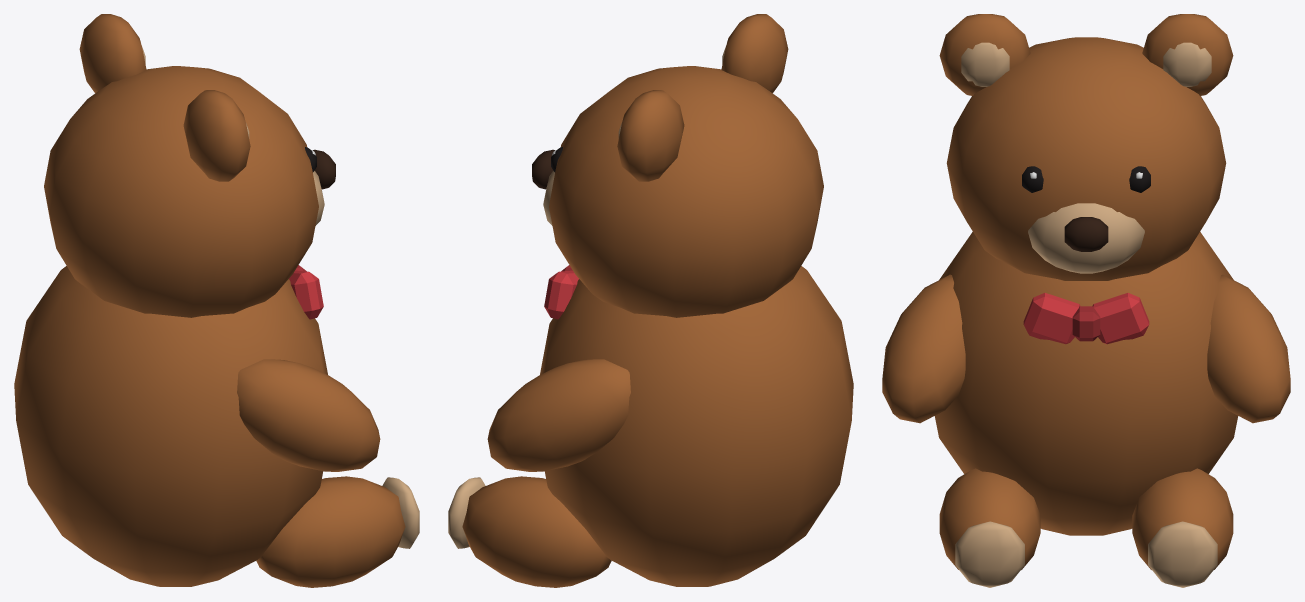
The model's file is toy-prop3.glb.
The picture shows the model from 3 angles, left to right: view 1: azimuth 30°, elevation 25°; view 2: azimuth 150°, elevation 25°; view 3: azimuth 270°, elevation 25°; orthographic projection. The views are drawn at different scales.
Visible parts, largest first — view 1: toy-prop3; view 2: toy-prop3; view 3: toy-prop3.
Boxes of the visible parts, box(x1,y1,x2,y2) form: toy-prop3: box(14, 14, 419, 587); toy-prop3: box(448, 14, 853, 587); toy-prop3: box(882, 14, 1290, 587).
Size of the model in its own units: 0.7857 by 1.22 by 0.8901.
